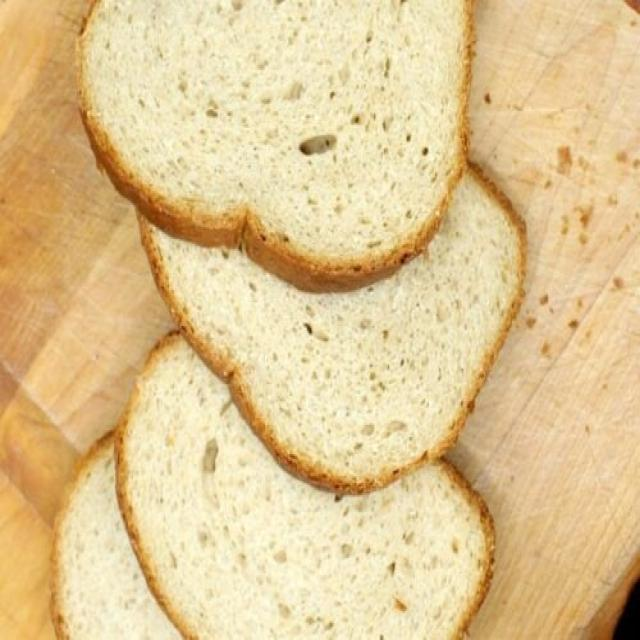Bread: (140, 167, 526, 492), (118, 333, 494, 638), (79, 0, 471, 291), (51, 433, 181, 638)
